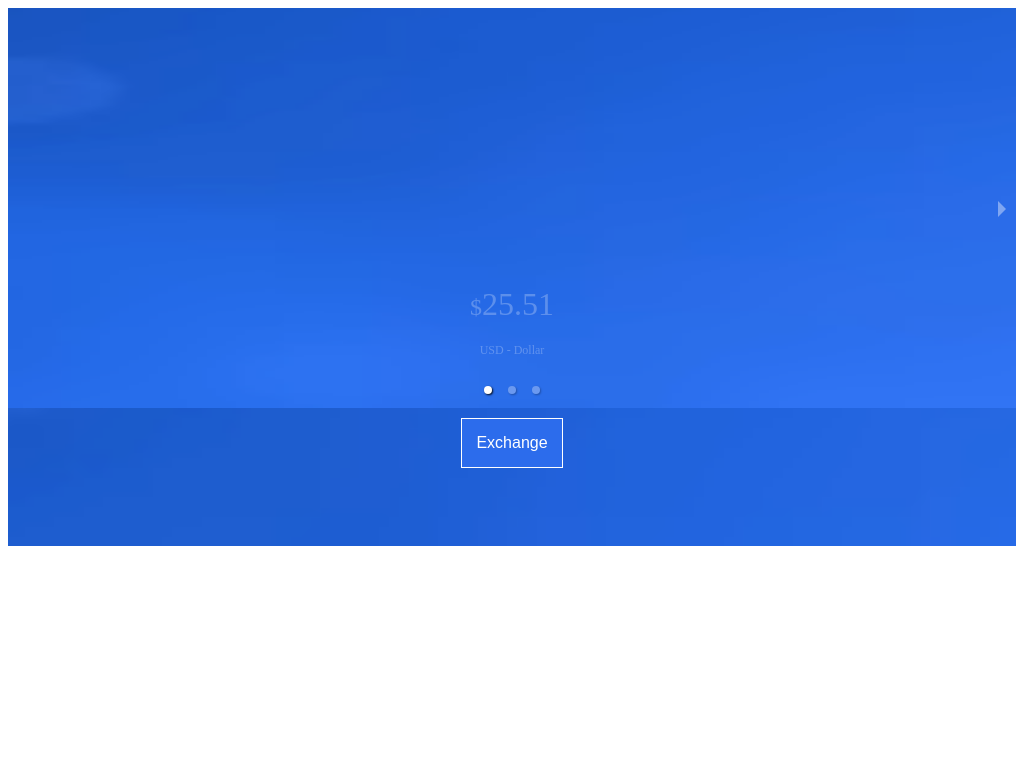
Test Exchange Page › exchange button and balance should be visible
Click the link with class "exchange" at (512, 443), box [461,418,563,468]
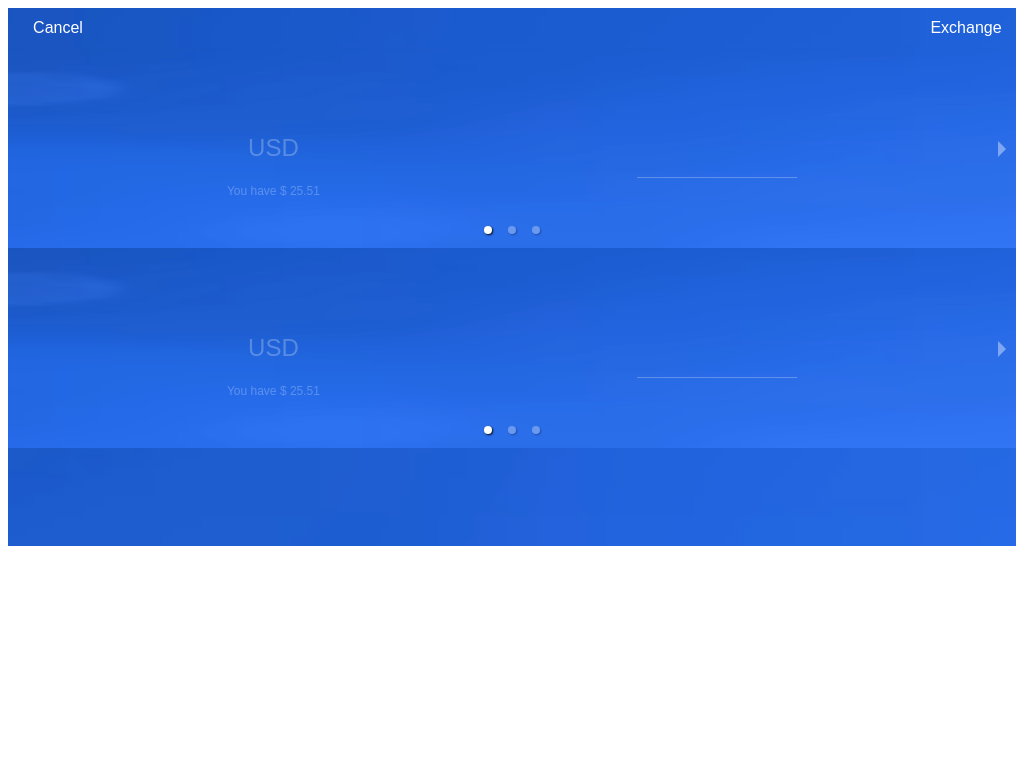
Expected: the link "Exchange" is shown, [930,19,1002,36]
Now the link "Cancel" is shown, box [33,19,83,36]
